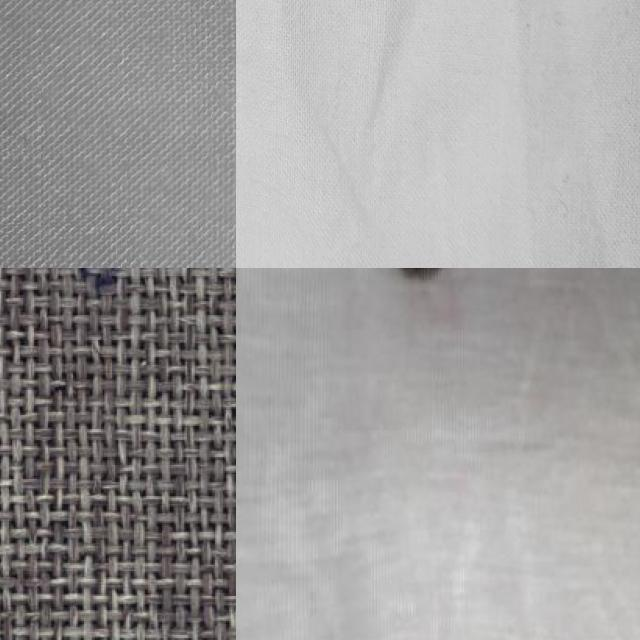Hole: (308, 268, 559, 352)
